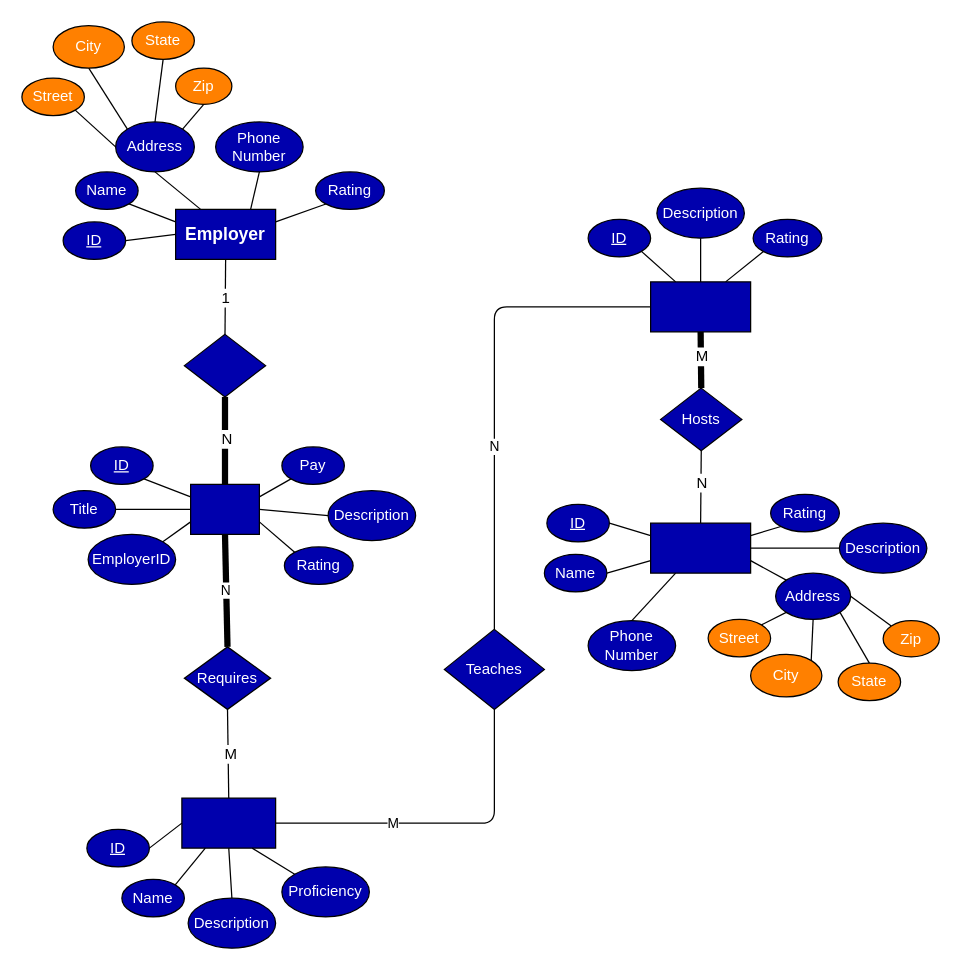
This 961x970 diagram has some shape labels left out. The shapes that lost their labels are listed below. From the top down, each one's box as (x1, y1, x2, y2) in pixels, then its label:
(649, 281, 751, 332): Activity
(183, 333, 266, 397): Offers
(189, 483, 259, 534): Job
(649, 522, 751, 573): Venue
(181, 797, 276, 848): Skill
